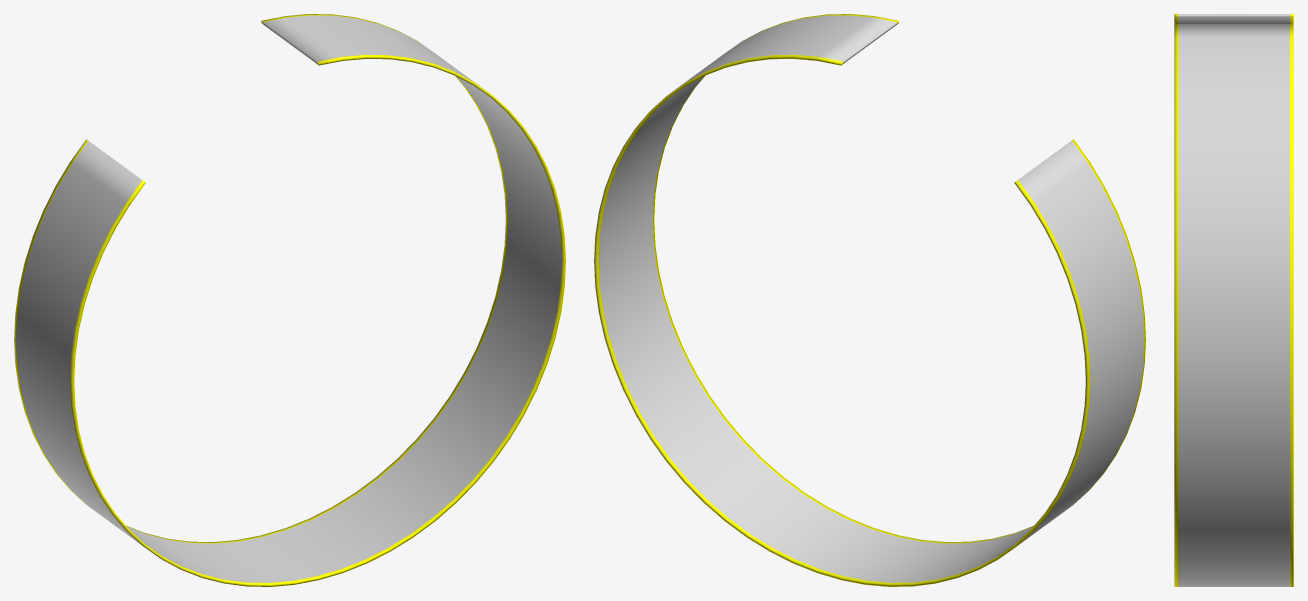
Rendered from NormalNote13.fbx.
3 renders of one model, left to right at view 1: azimuth 30°, elevation 25°; view 2: azimuth 150°, elevation 25°; view 3: azimuth 270°, elevation 25°, orthographic. The views are drawn at different scales.
Parts seen in each view (by area): view 1: NormalNote13; view 2: NormalNote13; view 3: NormalNote13.
Part boxes in pixels (x1,y1,x2,y2): NormalNote13: (14,14,565,586); NormalNote13: (594,14,1145,586); NormalNote13: (1174,14,1293,586).
Bounding box in the file's own units: 198 × 40 × 198.
